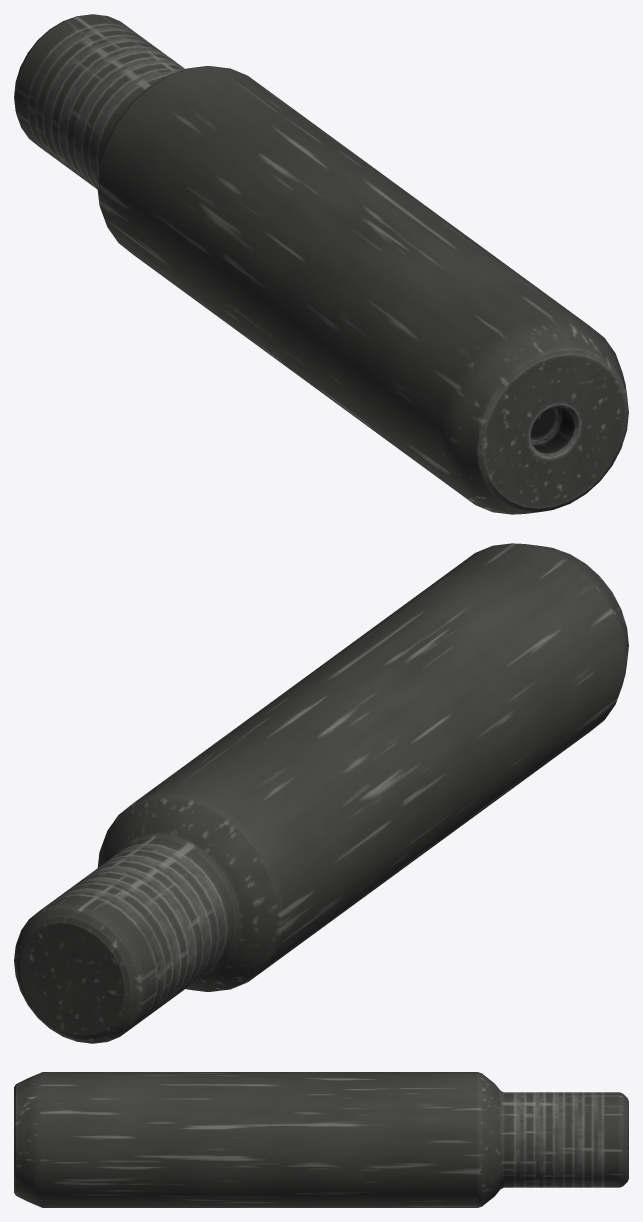
The model's file is suppressor.glb.
The picture shows the model from 3 angles, top to bottom: view 1: azimuth 30°, elevation 25°; view 2: azimuth 150°, elevation 25°; view 3: azimuth 270°, elevation 25°; orthographic projection. The views are drawn at different scales.
Visible parts, largest first — view 1: suppressor; view 2: suppressor; view 3: suppressor.
Boxes of the visible parts, x1=… form: suppressor: x1=14, y1=14, x2=628, y2=514; suppressor: x1=14, y1=543, x2=628, y2=1043; suppressor: x1=14, y1=1072, x2=628, y2=1207.
Size of the model in its own units: 0.0384 by 0.0384 by 0.174.
1 material, 1 textured.
